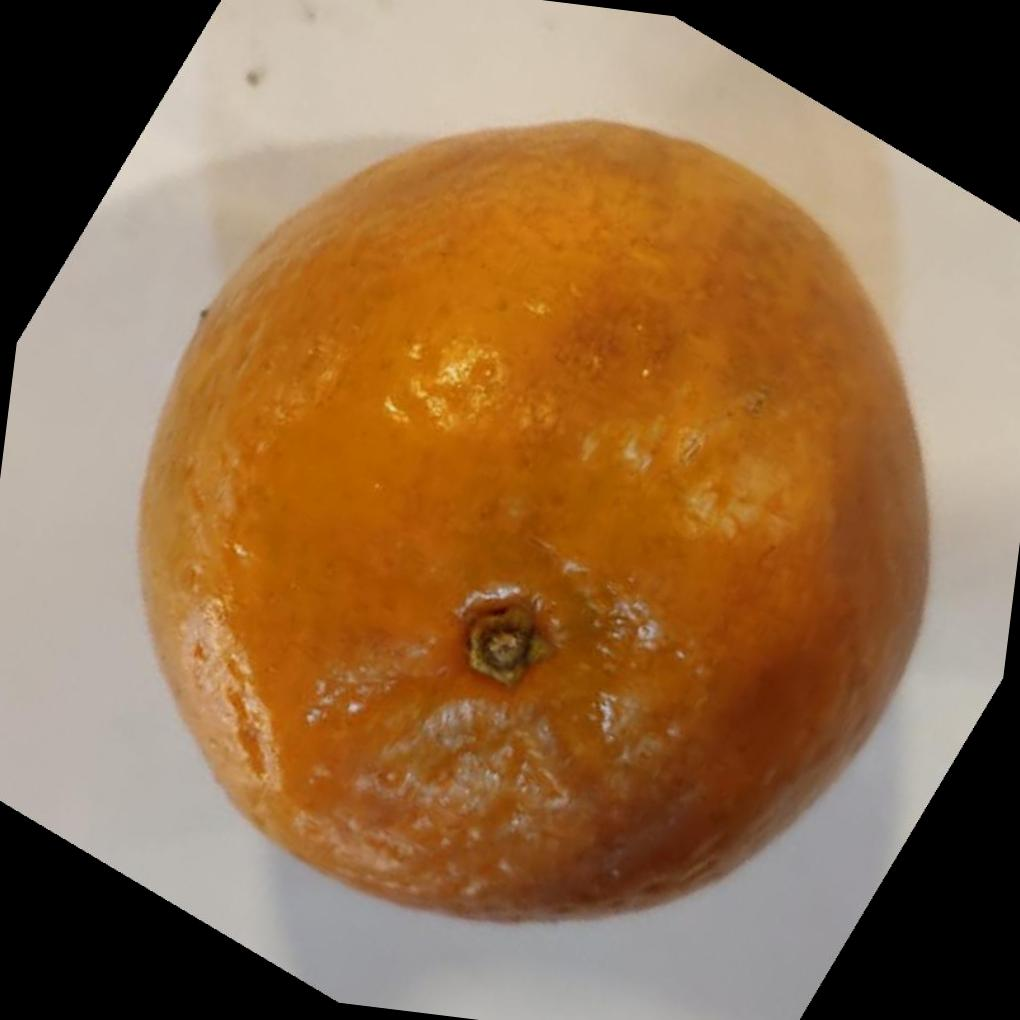FreshOrange: (133, 118, 933, 931)
